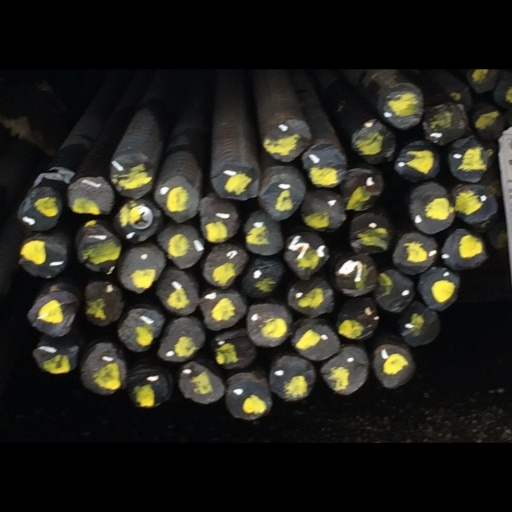dipstick: (319, 383, 370, 447), (80, 378, 125, 449), (409, 155, 453, 226), (155, 144, 200, 211), (269, 392, 316, 456), (261, 67, 310, 127), (157, 340, 205, 401), (284, 224, 329, 289), (29, 304, 73, 369), (300, 163, 346, 224), (417, 270, 463, 331), (203, 240, 248, 302), (178, 401, 225, 460), (120, 245, 164, 307), (352, 68, 396, 130), (258, 148, 305, 206), (158, 214, 203, 274), (116, 178, 161, 238), (78, 214, 120, 278), (247, 322, 291, 383), (441, 219, 488, 276), (118, 328, 163, 387), (226, 424, 271, 483), (348, 195, 393, 254), (392, 222, 437, 281), (157, 275, 199, 338), (380, 19, 422, 82), (373, 377, 416, 438), (110, 115, 152, 177), (199, 173, 240, 236), (199, 306, 247, 359), (245, 191, 284, 256), (453, 157, 498, 213), (335, 253, 377, 312), (423, 45, 467, 101), (396, 98, 439, 155), (338, 312, 378, 373), (67, 146, 113, 199), (450, 93, 489, 155), (288, 288, 334, 340), (293, 348, 339, 399), (19, 164, 59, 222), (84, 290, 122, 351), (19, 235, 65, 285), (301, 110, 346, 161), (244, 260, 284, 317), (399, 321, 439, 378), (344, 136, 383, 193), (211, 131, 257, 178), (215, 362, 257, 413), (377, 275, 412, 335), (127, 416, 170, 463), (33, 375, 78, 417)
